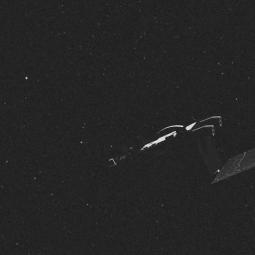proba_3_csc: (103, 112, 252, 230)
